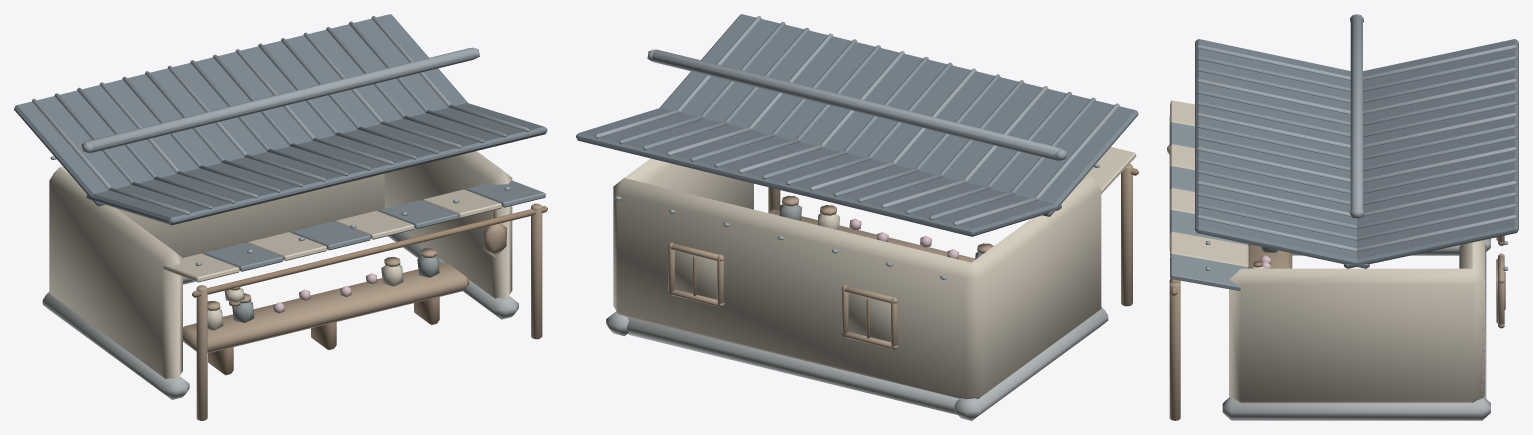
Rendered from custom_shop.glb.
3 views of the same model, side by side, from view 1: azimuth 30°, elevation 25°; view 2: azimuth 150°, elevation 25°; view 3: azimuth 270°, elevation 25° (orthographic). The views are drawn at different scales.
Visible parts, largest first — view 1: custom_shop; view 2: custom_shop; view 3: custom_shop.
Boxes of the visible parts, left/top/right/bottom form: custom_shop: left=14, top=14, right=547, bottom=420; custom_shop: left=576, top=14, right=1138, bottom=420; custom_shop: left=1167, top=14, right=1518, bottom=420.
Size of the model in its own units: 7.69 by 4.07 by 5.77.
